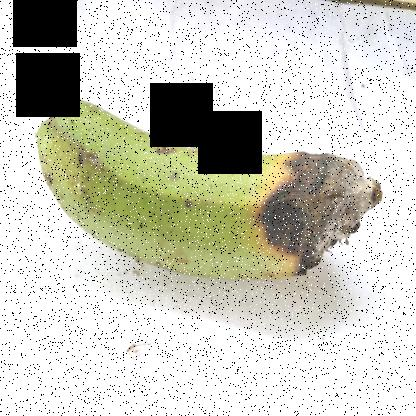rotten: (229, 119, 400, 309)
unripe: (29, 106, 253, 283)
